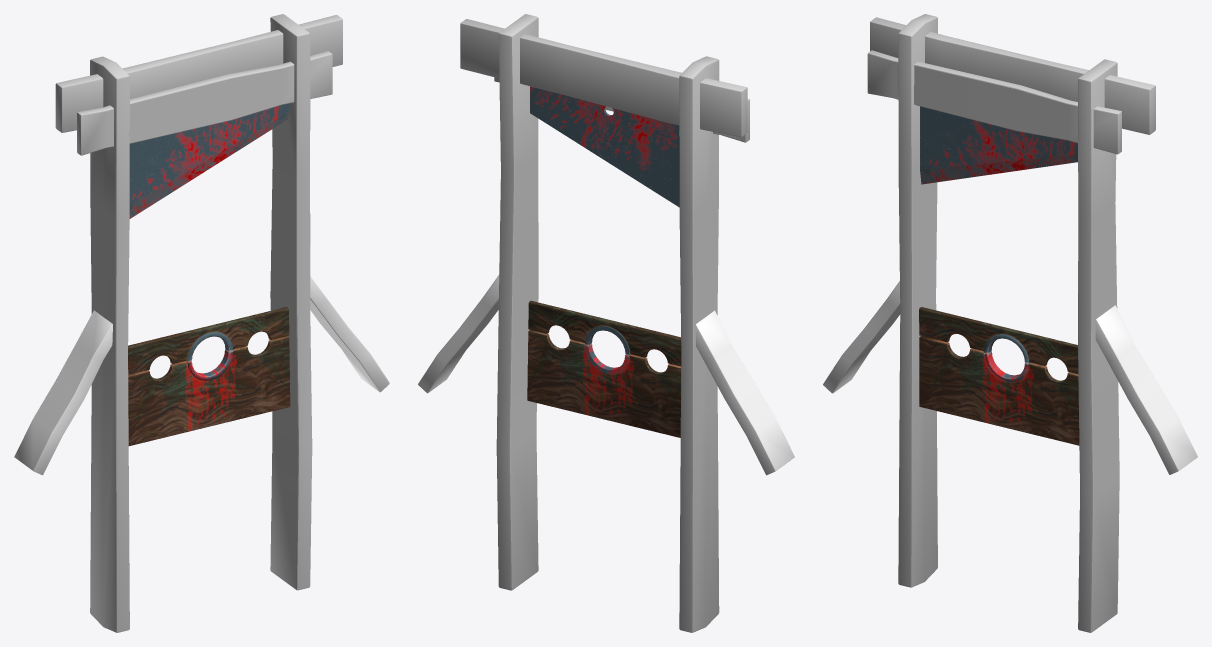
Rendered from Guillotine_Visual.fbx.
3 views of the same model, side by side, from view 1: azimuth 30°, elevation 25°; view 2: azimuth 150°, elevation 25°; view 3: azimuth 330°, elevation 25° (orthographic).
Parts seen in each view (by area): view 1: Guillotine, Guillotine_Blade, Guillotine_Part; view 2: Guillotine, Guillotine_Blade, Guillotine_Part; view 3: Guillotine, Guillotine_Blade, Guillotine_Part.
Boxes of the visible parts, x1,y1,x2,y2 form: Guillotine: [14, 14, 389, 632]; Guillotine_Blade: [129, 103, 288, 218]; Guillotine_Part: [128, 307, 289, 374]; Guillotine: [418, 14, 794, 632]; Guillotine_Blade: [530, 86, 679, 207]; Guillotine_Part: [528, 300, 681, 366]; Guillotine: [823, 14, 1197, 632]; Guillotine_Blade: [920, 106, 1077, 184]; Guillotine_Part: [919, 307, 1078, 373].
Bounding box in the file's own units: 211 × 317 × 27.83.
